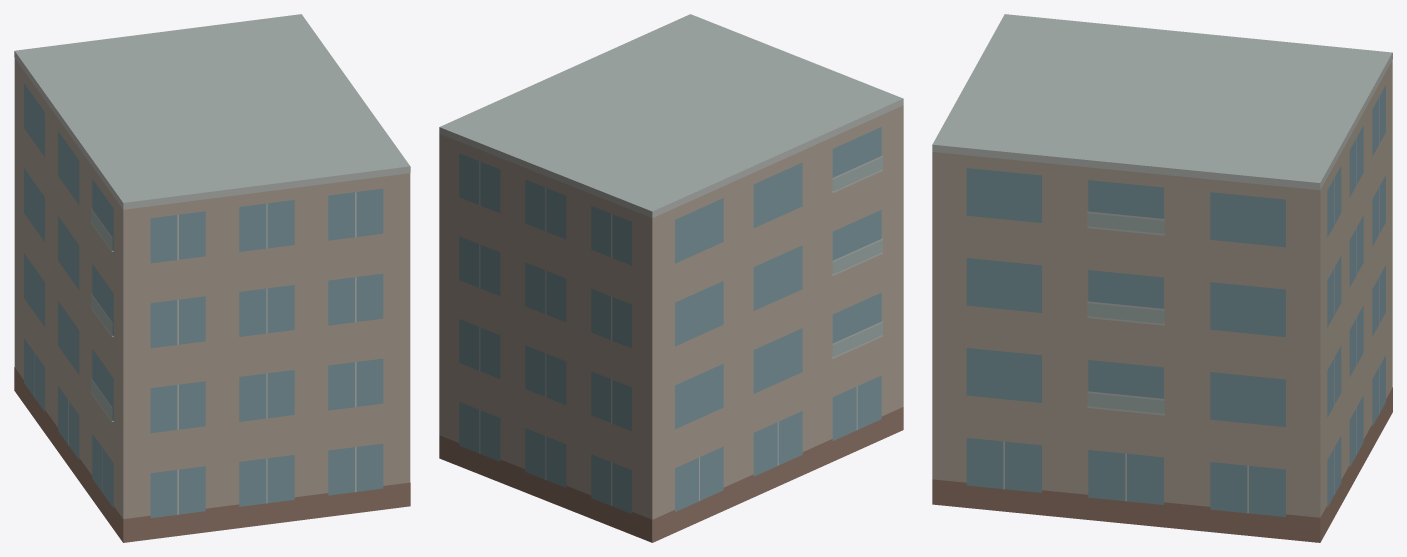
File: residential-9b5f9058-ceea-434b-8523-c59ecf48b614.glb
3 views of the same model, side by side, from view 1: azimuth 30°, elevation 25°; view 2: azimuth 150°, elevation 25°; view 3: azimuth 270°, elevation 25° (orthographic). The views are drawn at different scales.
Visible parts, largest first — view 1: residential-9b5f9058-ceea-434b-8523-c59ecf48b614.tmp; view 2: residential-9b5f9058-ceea-434b-8523-c59ecf48b614.tmp; view 3: residential-9b5f9058-ceea-434b-8523-c59ecf48b614.tmp.
Boxes of the visible parts, bbox=[...] form: residential-9b5f9058-ceea-434b-8523-c59ecf48b614.tmp: bbox=[14, 14, 410, 542]; residential-9b5f9058-ceea-434b-8523-c59ecf48b614.tmp: bbox=[439, 14, 903, 542]; residential-9b5f9058-ceea-434b-8523-c59ecf48b614.tmp: bbox=[932, 14, 1392, 542].
Bounding box in the file's own units: 12.31 × 12.2 × 14.16.
